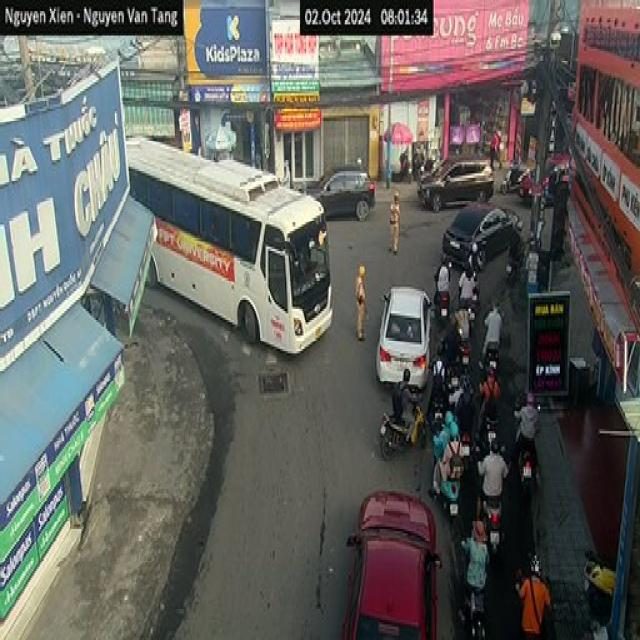bus: (124, 147, 342, 358)
car: (350, 479, 444, 640), (376, 269, 433, 398), (439, 210, 516, 270), (303, 162, 378, 221), (417, 162, 494, 207), (524, 153, 578, 211)
motorcycle: (580, 548, 623, 614), (380, 407, 428, 458), (434, 445, 462, 522), (517, 428, 542, 506), (482, 488, 506, 564), (464, 577, 491, 640), (454, 332, 476, 378), (429, 286, 452, 320), (506, 246, 526, 283), (428, 387, 444, 429), (461, 420, 474, 470), (484, 334, 498, 374), (469, 269, 484, 306), (504, 167, 522, 193), (464, 299, 479, 330), (442, 306, 444, 306)
person: (522, 558, 552, 634), (392, 358, 422, 427), (468, 511, 490, 599), (354, 261, 372, 343), (485, 434, 506, 504), (484, 300, 505, 358), (483, 360, 502, 419), (509, 212, 526, 272), (523, 390, 539, 452), (437, 412, 456, 458), (453, 298, 470, 347), (461, 376, 478, 424), (448, 424, 461, 483), (437, 245, 451, 299), (432, 348, 447, 394), (391, 186, 400, 262), (457, 260, 472, 303), (489, 123, 503, 168), (450, 372, 464, 417), (510, 140, 525, 179), (280, 154, 296, 190), (470, 239, 482, 282)
